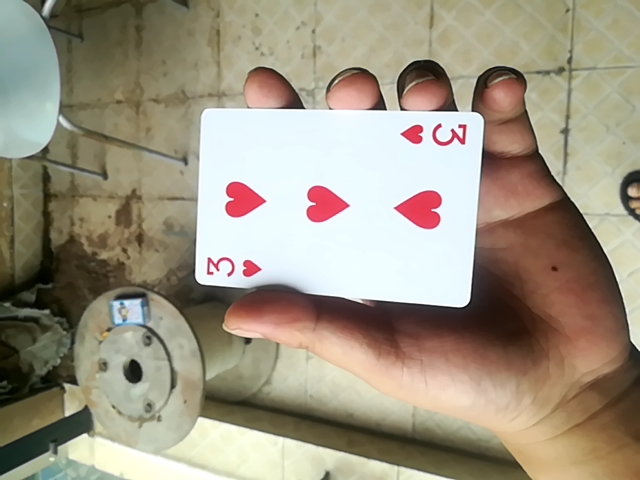hx 3: (185, 104, 487, 311)
